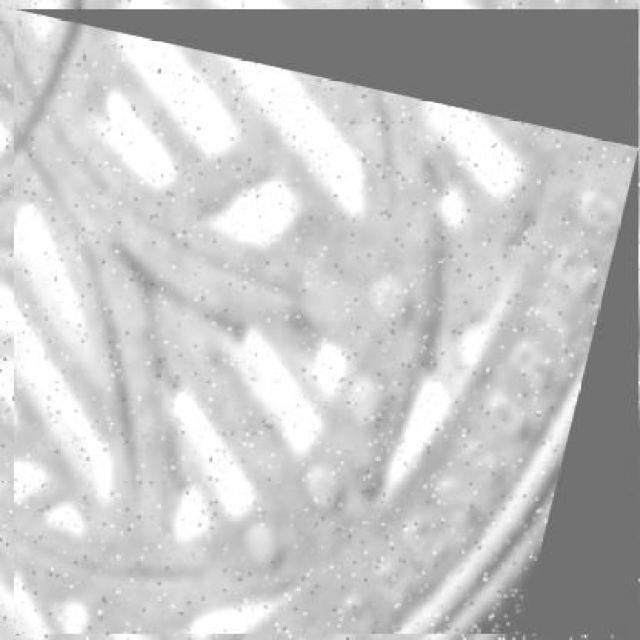Manhole: (15, 9, 640, 634)
